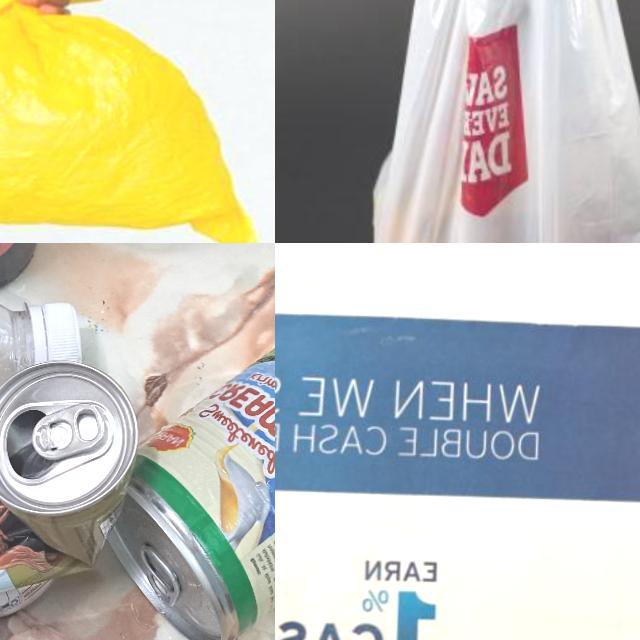aba de lata: (31, 402, 103, 458), (140, 543, 178, 606)
garrafa plástica: (0, 267, 35, 447)
lata: (100, 320, 275, 640), (0, 360, 143, 618)
papel: (275, 294, 640, 640)
sacola plástica: (355, 0, 640, 243), (0, 0, 259, 243)
tampa plástica: (32, 303, 82, 365)
